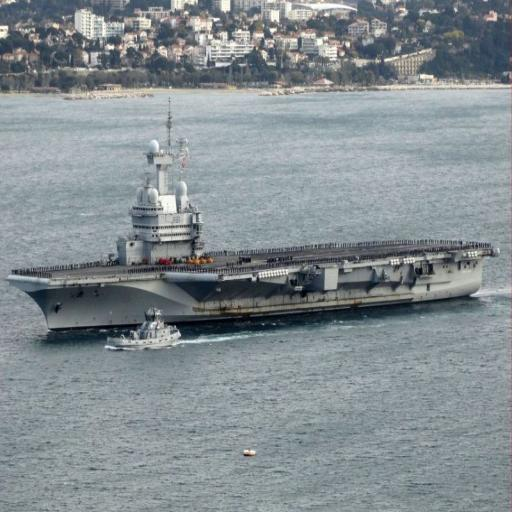Portanaves: (6, 93, 502, 338)
